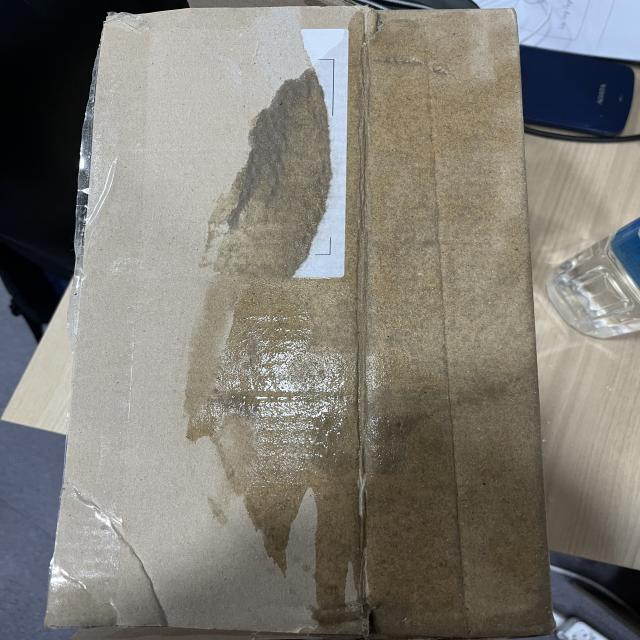wet: (104, 18, 546, 625)
